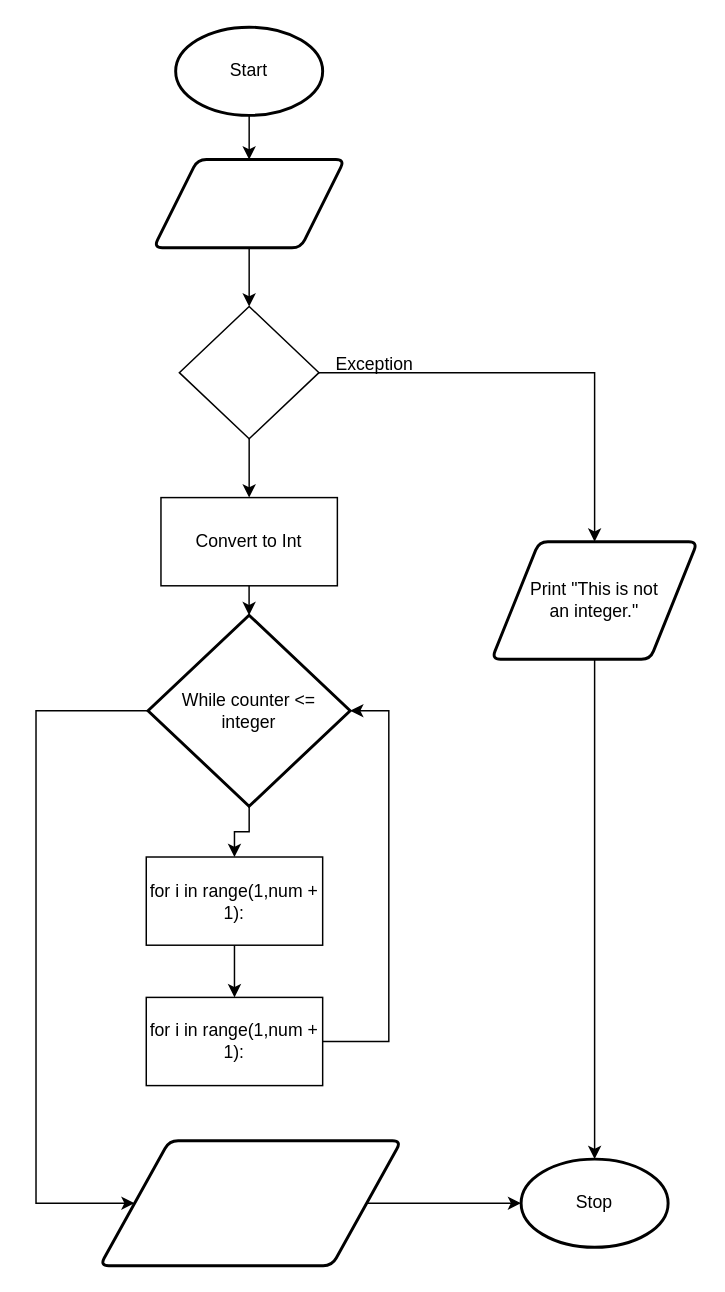
The diagram is 725 pixels wide and 1292 high, and some of its shapes have lost their labels. Each missing label, with the box of its shape:
Get integer: (151, 157, 345, 248)
Print "The factorial of this number is: " Show Sum: (98, 1139, 402, 1266)
Try: (178, 305, 319, 439)
